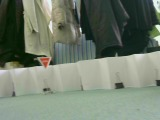stop: (36, 56, 53, 70)
